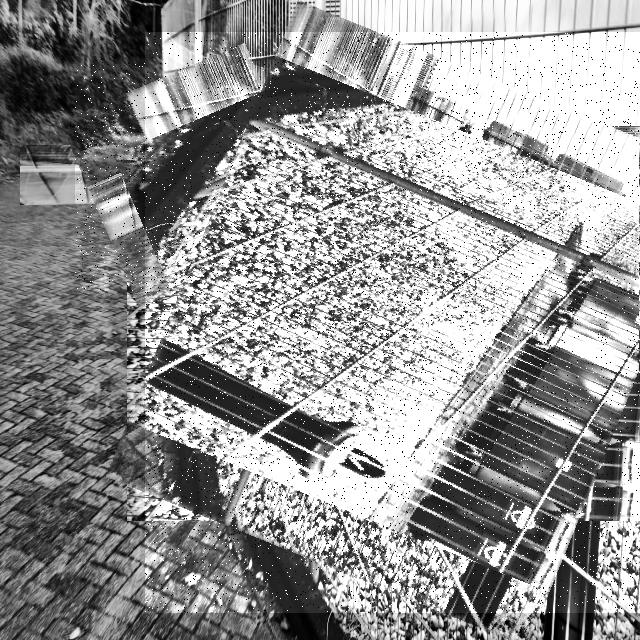fences: (145, 32, 640, 613), (75, 59, 308, 291)
